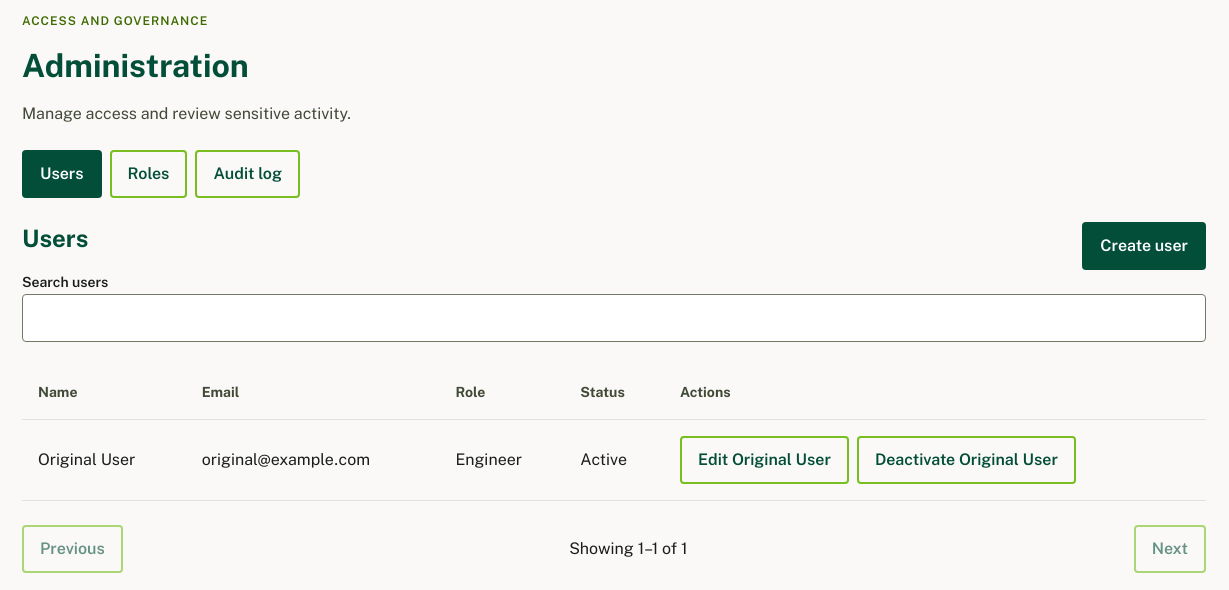
Test: clears stale users and pagination after a failed search, then displays a successful retry
expect the text "original@example.com" is shown: met, box [186,420,439,500]
expect the text "Showing 1–1 of 1" is shown: met, box [569,537,688,561]
Type "x" into the field labelled "Search users" at (614, 318), box [22,294,1206,342]
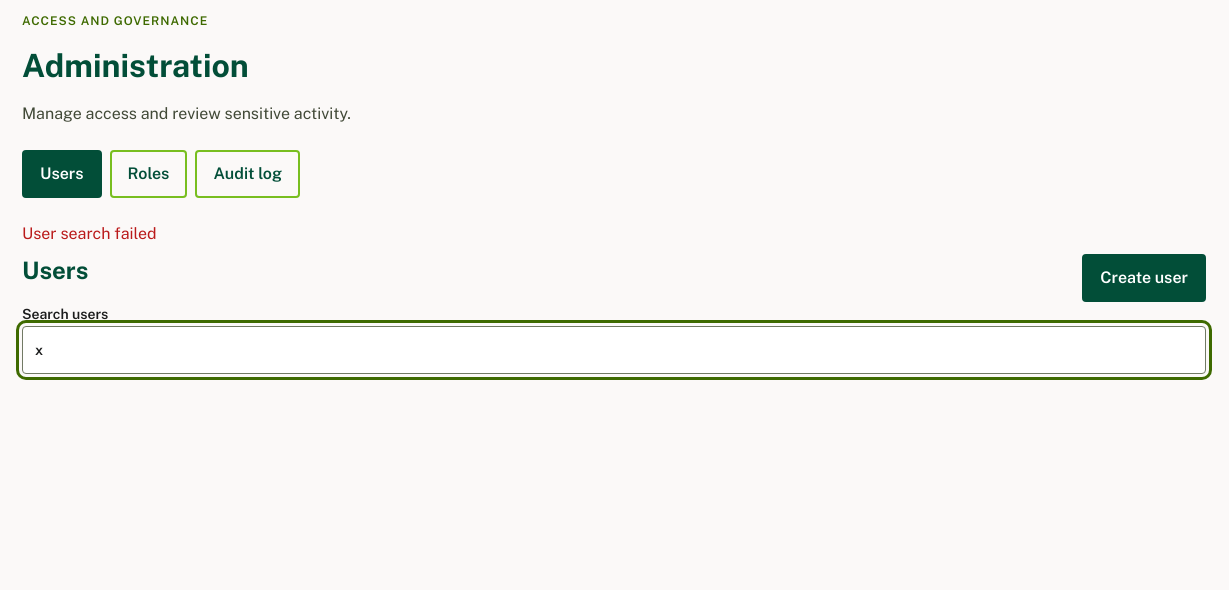
expect the message reads "User search failed": met, box [22,224,157,243]
expect the text "original@example.com" is gone: met
expect the text "Showing 1–1 of 1" is gone: met
Click the button "Audit log" at (248, 174), box [195,150,300,198]
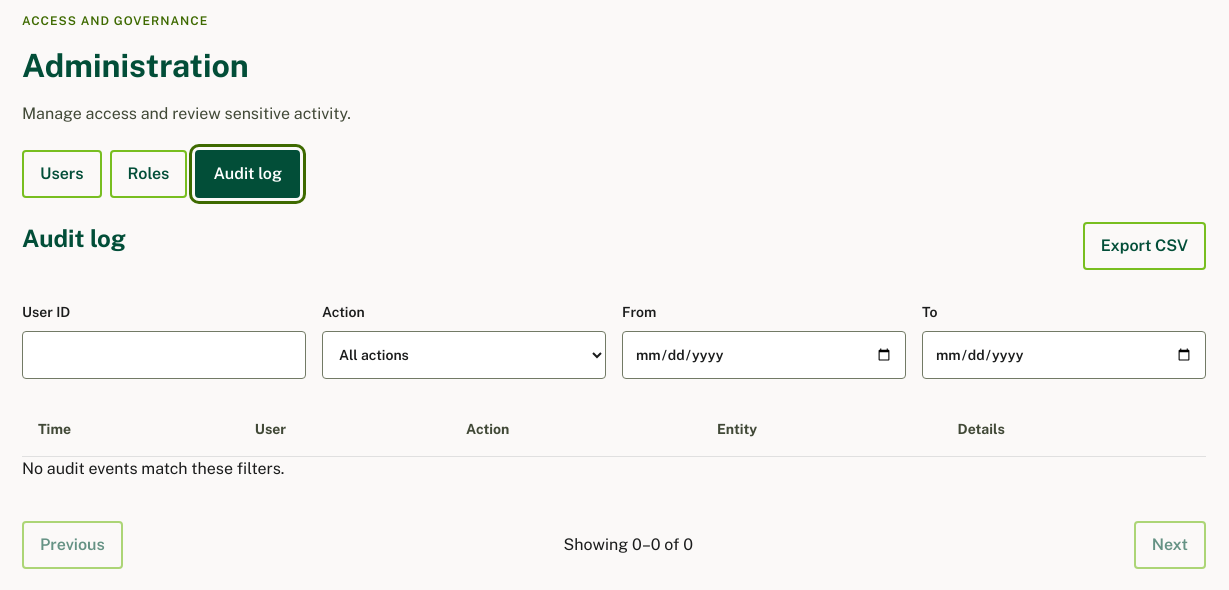
Click the button "Users" at (62, 174), box [22,150,102,198]
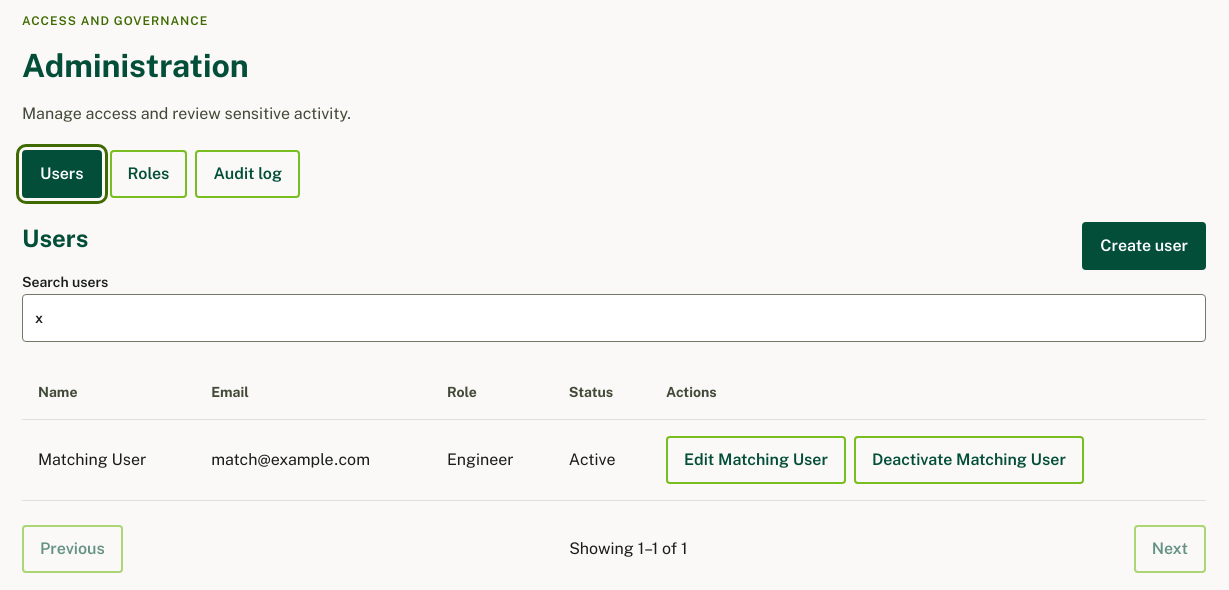
expect the message "User search failed" is not shown: met
expect the text "match@example.com" is shown: met, box [195,420,431,500]
expect the text "Showing 1–1 of 1" is shown: met, box [569,537,688,561]
